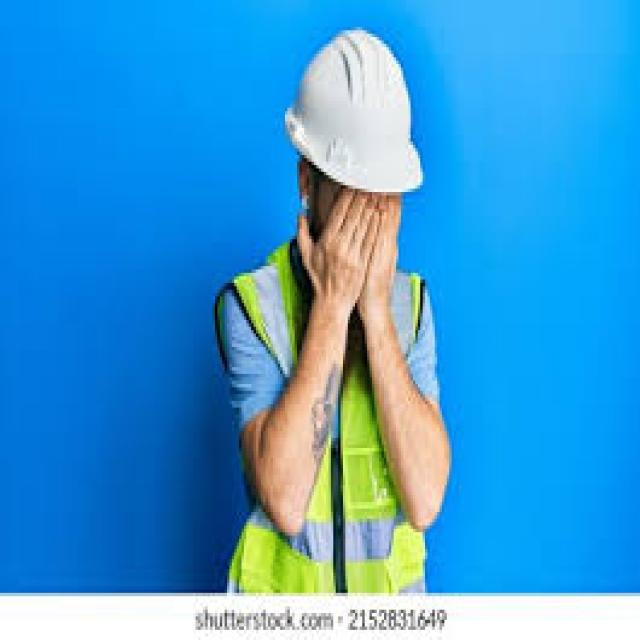Reflective-Jacket: (215, 256, 432, 589)
Safety-Helmet: (283, 24, 425, 202)
